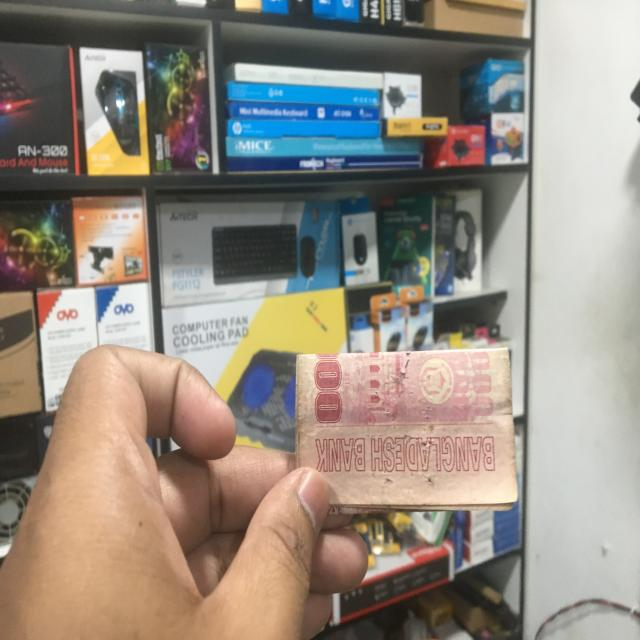Taka: (296, 349, 514, 495)
